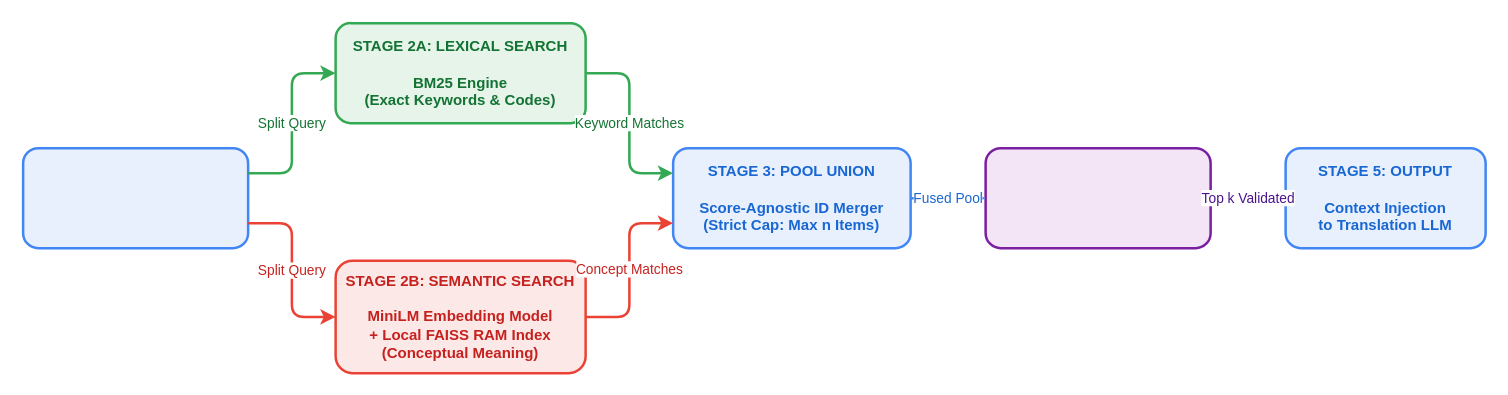
Some shapes in this 1508 by 395 pixel diagram are drawn without their labels. The shapes that lost their labels are listed below. From the top down, each one's centre as x and y in pixels, then its label:
point (135, 197): STAGE 1: INPUT Bulk Source Text (In-Memory De-duplication)
point (1097, 197): STAGE 4: EVALUATION Cross-Encoder Jury (Deep Token Alignment)
